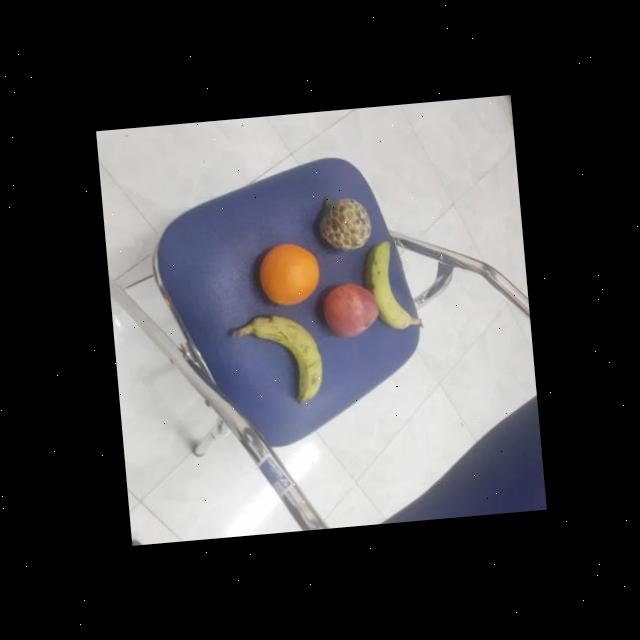Sakya fruit: (312, 194, 372, 256)
apple: (318, 279, 381, 341)
banana: (246, 309, 326, 408), (360, 238, 415, 334)
orange: (252, 237, 326, 312)
